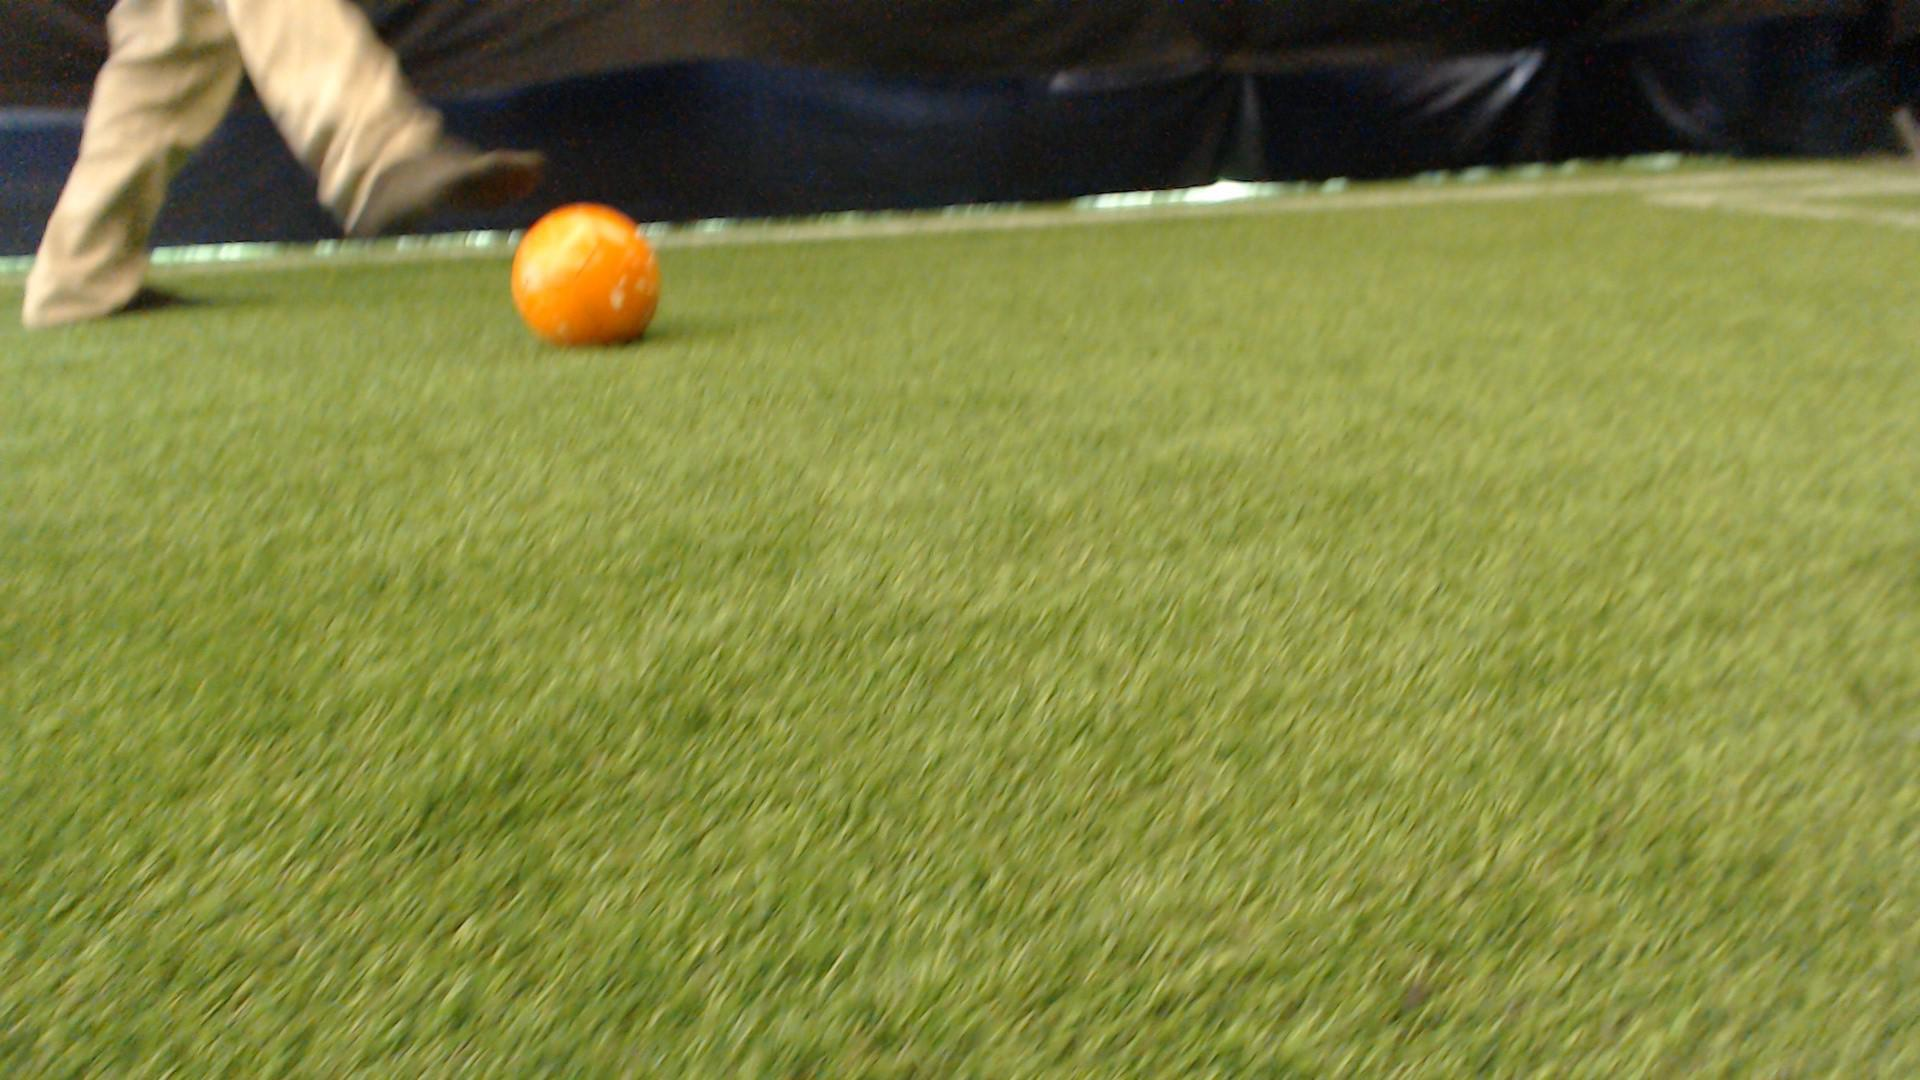bola: (477, 175, 699, 377)
